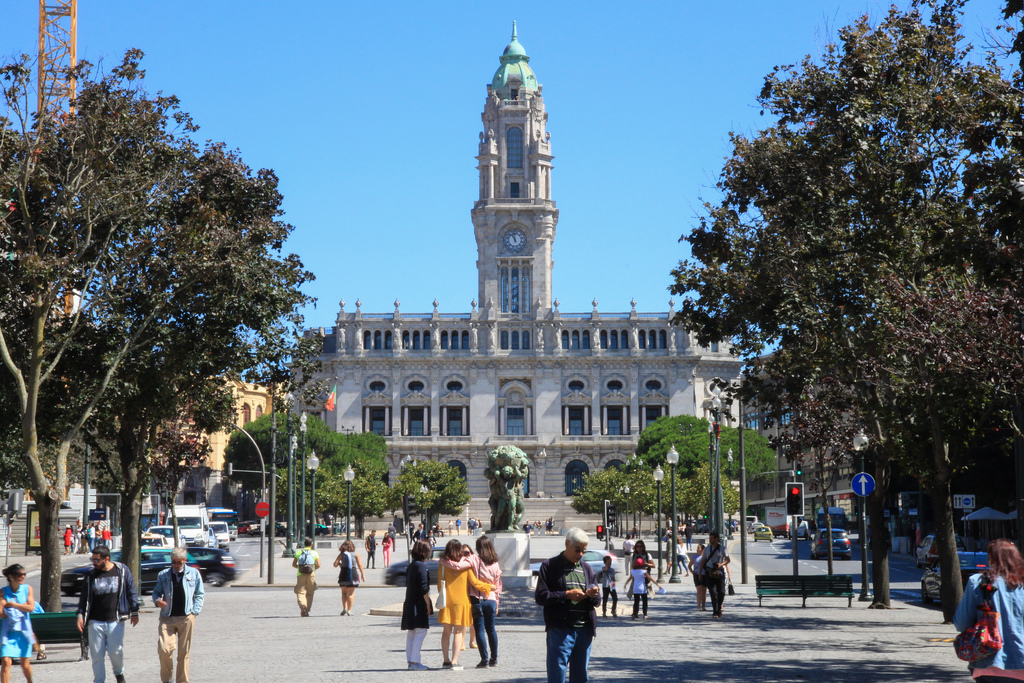camara: (299, 18, 748, 497)
